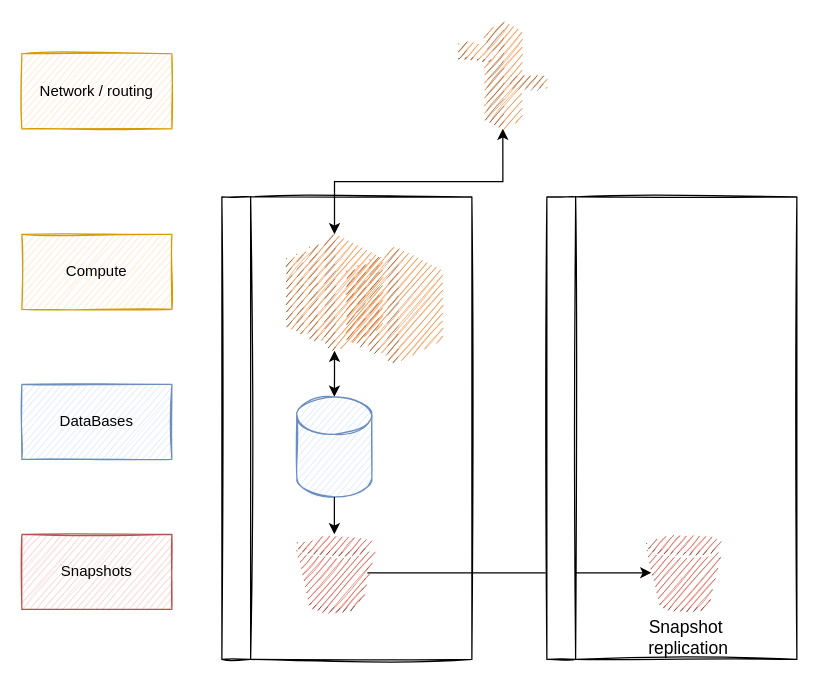
Some shapes in this 819 by 681 pixel diagram are drawn without their labels. Here are the shapes that lost their labels. From the top down, the box of each, then its label:
(221, 196, 472, 659): Region A
(546, 196, 797, 659): Region B
